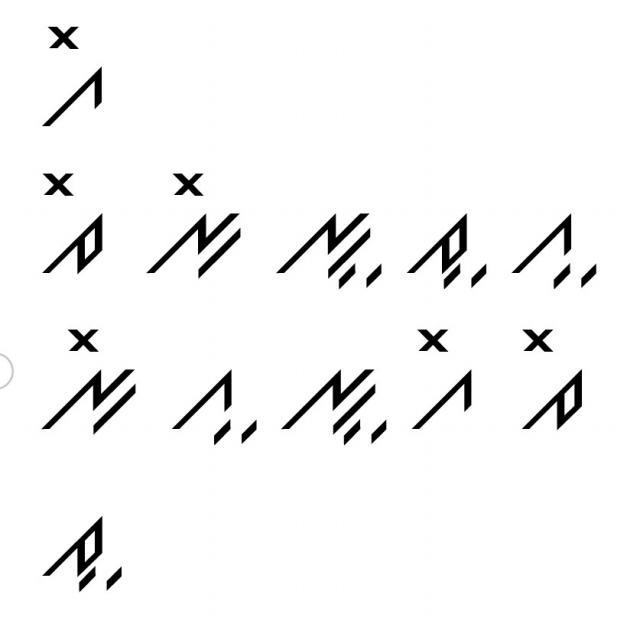gah: (162, 366, 265, 454), (504, 202, 599, 296)
go: (28, 14, 110, 138), (407, 320, 484, 435)
ngah: (280, 361, 390, 463), (273, 198, 385, 296)
ngo: (36, 316, 144, 441), (144, 165, 244, 282)
tah: (30, 506, 125, 600), (402, 202, 492, 294)
to: (28, 162, 114, 282), (509, 325, 595, 437)
